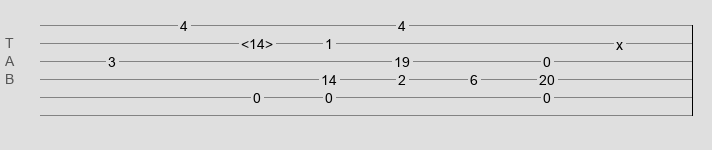0: (253, 90, 261, 100), (325, 90, 333, 100), (543, 90, 551, 100), (543, 54, 551, 64)
1: (325, 36, 333, 46)
14: (321, 72, 337, 82)
19: (394, 54, 410, 64)
2: (398, 72, 406, 82)
20: (539, 72, 555, 82)
3: (108, 54, 116, 64)
4: (180, 18, 188, 28), (398, 18, 406, 28)
6: (470, 72, 478, 82)
harmonic: (241, 36, 273, 46)
x: (616, 37, 623, 45)
